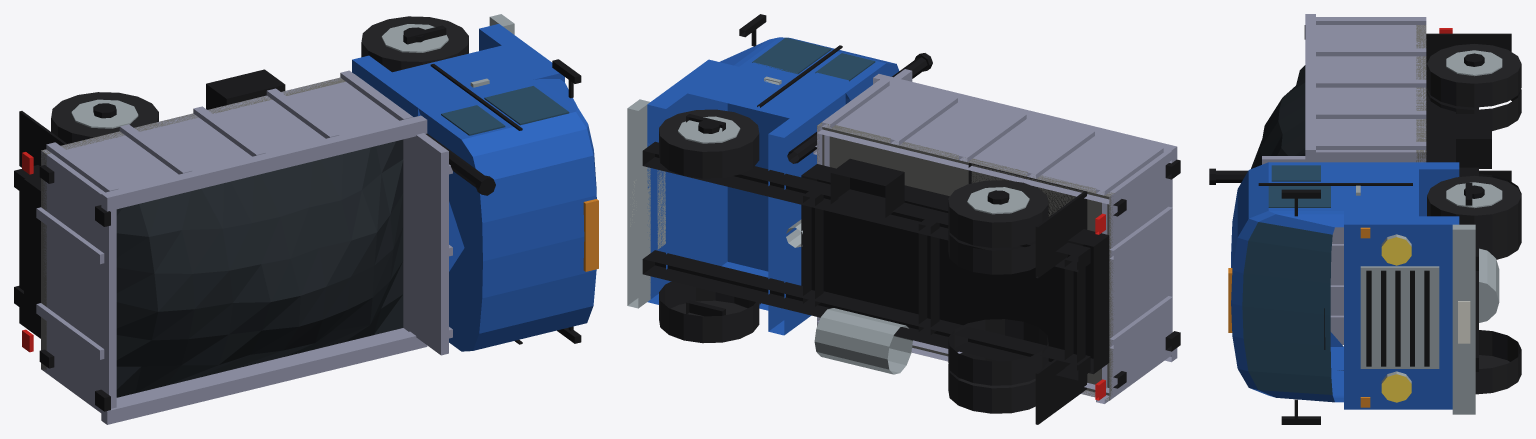
The model's file is loaded.glb.
3 views of the same model, side by side, from view 1: azimuth 30°, elevation 25°; view 2: azimuth 150°, elevation 25°; view 3: azimuth 270°, elevation 25° (orthographic). The views are drawn at different scales.
Parts seen in each view (by area): view 1: loaded_load, loaded_bed, loaded_cab_upper, loaded_headboard, loaded_cab_arch, loaded_front1, loaded_rear_out1, loaded_subframe, loaded_cab_back, loaded_battery_box, loaded_side_window1, loaded_cab_front (+4 smaller); view 2: loaded_bed, loaded_subframe, loaded_cab_arch, loaded_chassis-1, loaded_chassis1, loaded_cab_back, loaded_cab_front, loaded_front1, loaded_rear_out1, loaded_fuel_tank, loaded_bumper, loaded_front-1 (+15 smaller); view 3: loaded_cab_upper, loaded_bed, loaded_cab_front, loaded_grille, loaded_rear_out1, loaded_front1, loaded_bumper, loaded_cab_arch, loaded_load, loaded_front-1, loaded_battery_box, loaded_subframe (+22 smaller).
Boxes of the visible parts, bbox=[...] form: loaded_load: bbox=[116, 139, 403, 397]; loaded_bed: bbox=[36, 70, 427, 424]; loaded_cab_upper: bbox=[418, 79, 596, 351]; loaded_headboard: bbox=[414, 133, 448, 355]; loaded_cab_arch: bbox=[392, 45, 544, 271]; loaded_front1: bbox=[361, 16, 468, 72]; loaded_rear_out1: bbox=[51, 92, 158, 143]; loaded_subframe: bbox=[24, 175, 40, 327]; loaded_cab_back: bbox=[352, 55, 434, 116]; loaded_battery_box: bbox=[206, 69, 285, 109]; loaded_side_window1: bbox=[484, 86, 569, 125]; loaded_cab_front: bbox=[479, 24, 564, 82]; loaded_bed: bbox=[817, 74, 1177, 403]; loaded_subframe: bbox=[801, 164, 1109, 374]; loaded_cab_arch: bbox=[687, 64, 829, 310]; loaded_chassis-1: bbox=[642, 250, 1090, 380]; loaded_chassis1: bbox=[642, 141, 1090, 271]; loaded_cab_back: bbox=[768, 89, 845, 335]; loaded_cab_front: bbox=[647, 59, 727, 304]; loaded_front1: bbox=[659, 109, 759, 178]; loaded_rear_out1: bbox=[948, 180, 1048, 247]; loaded_fuel_tank: bbox=[814, 308, 912, 374]; loaded_bumper: bbox=[627, 99, 650, 308]; loaded_front-1: bbox=[659, 281, 759, 343]; loaded_cab_upper: bbox=[1231, 162, 1343, 402]; loaded_bed: bbox=[1305, 14, 1426, 344]; loaded_cab_front: bbox=[1344, 216, 1459, 409]; loaded_grille: bbox=[1360, 266, 1439, 368]; loaded_rear_out1: bbox=[1427, 44, 1521, 107]; loaded_front1: bbox=[1427, 175, 1521, 240]; loaded_bumper: bbox=[1452, 224, 1475, 414]; loaded_cab_arch: bbox=[1344, 169, 1418, 216]; loaded_load: bbox=[1251, 65, 1305, 168]; loaded_front-1: bbox=[1475, 330, 1521, 394]; loaded_battery_box: bbox=[1456, 114, 1491, 168]; loaded_subframe: bbox=[1426, 67, 1455, 162].
Bounding box in the file's own units: 7.6 × 3.9 × 4.75.
